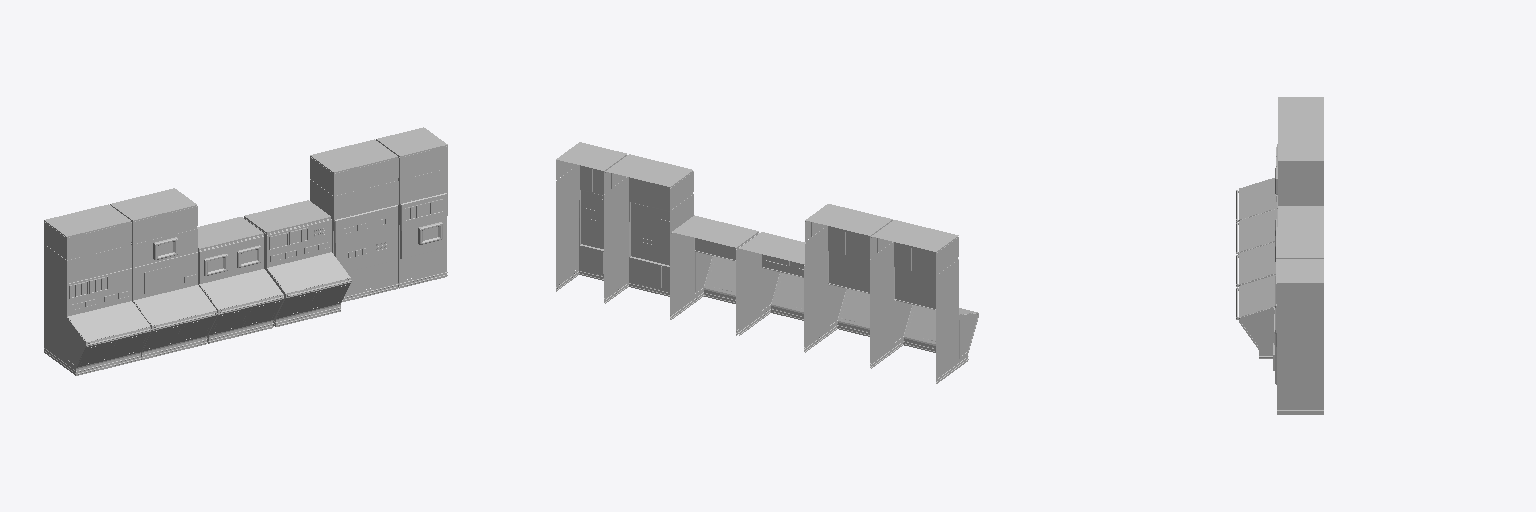
Rendered from clearobj.obj.
The picture shows the model from 3 angles: view 1: azimuth 30°, elevation 25°; view 2: azimuth 150°, elevation 25°; view 3: azimuth 270°, elevation 25°; orthographic projection.
Visible parts, largest first — view 1: 02; view 2: 02; view 3: 02.
Part boxes in pixels (x1,y1,x2,y2): 02: (44,127,447,375); 02: (556,142,978,383); 02: (1236,97,1323,414).
Size of the model in its own units: 24.59 by 8.18 by 4.92.